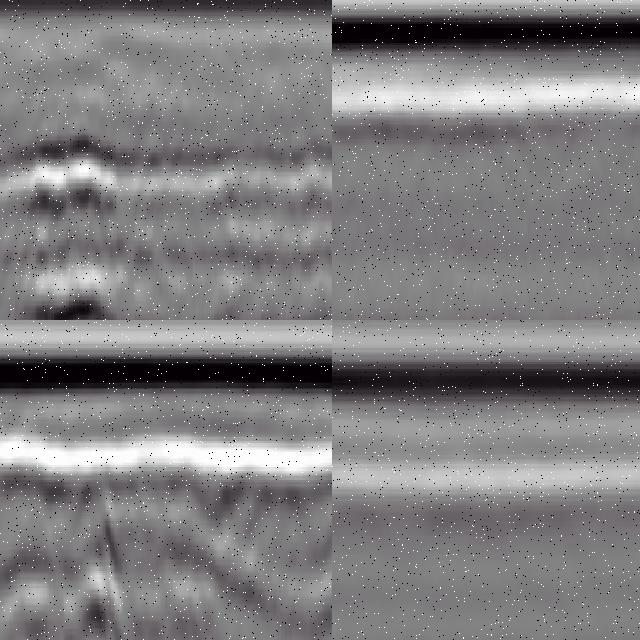loose: (1, 433, 305, 640), (17, 120, 122, 321)
